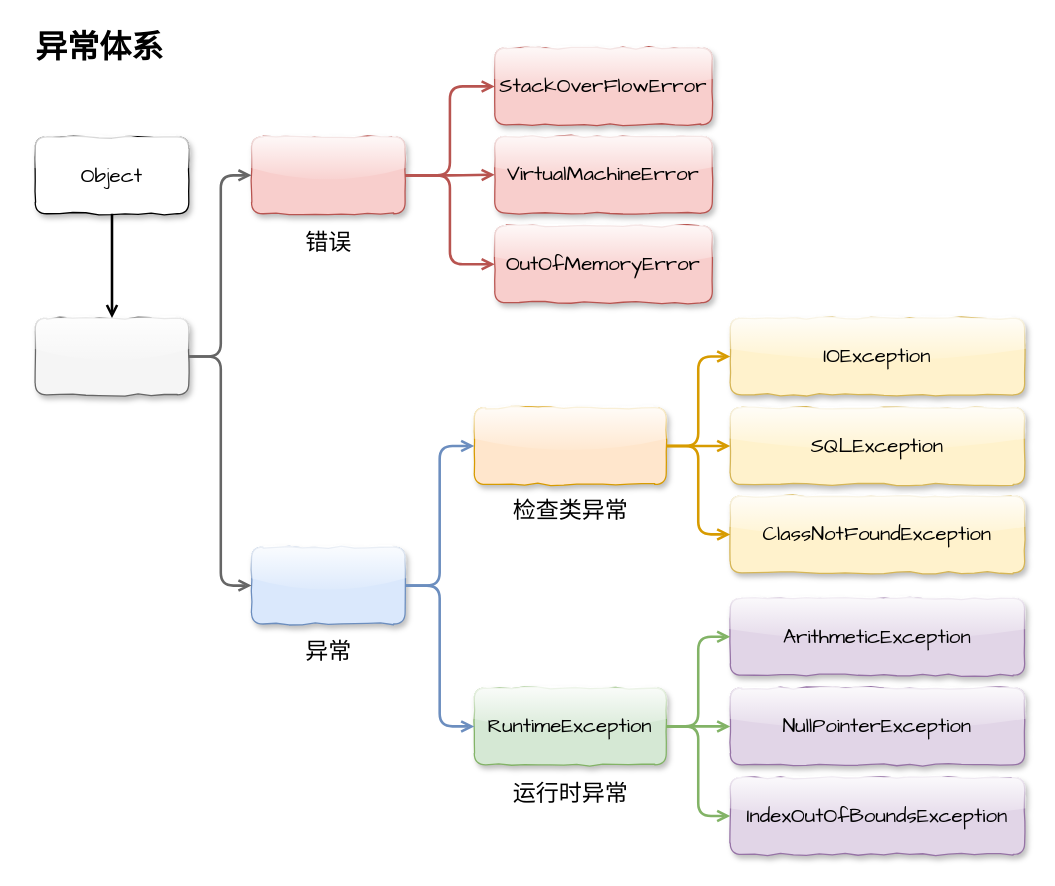
Some shapes in this 1055 by 886 pixel diagram are drawn without their labels. Each missing label, with the centre of its shape:
CheckException: [571,447]
Error: [329,177]
Exception: [329,587]
Throwable: [112,358]
